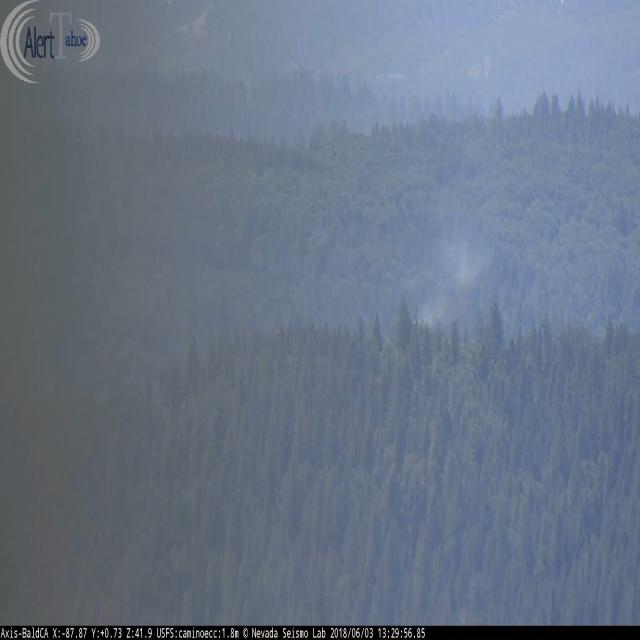smoke: (416, 234, 480, 330)
